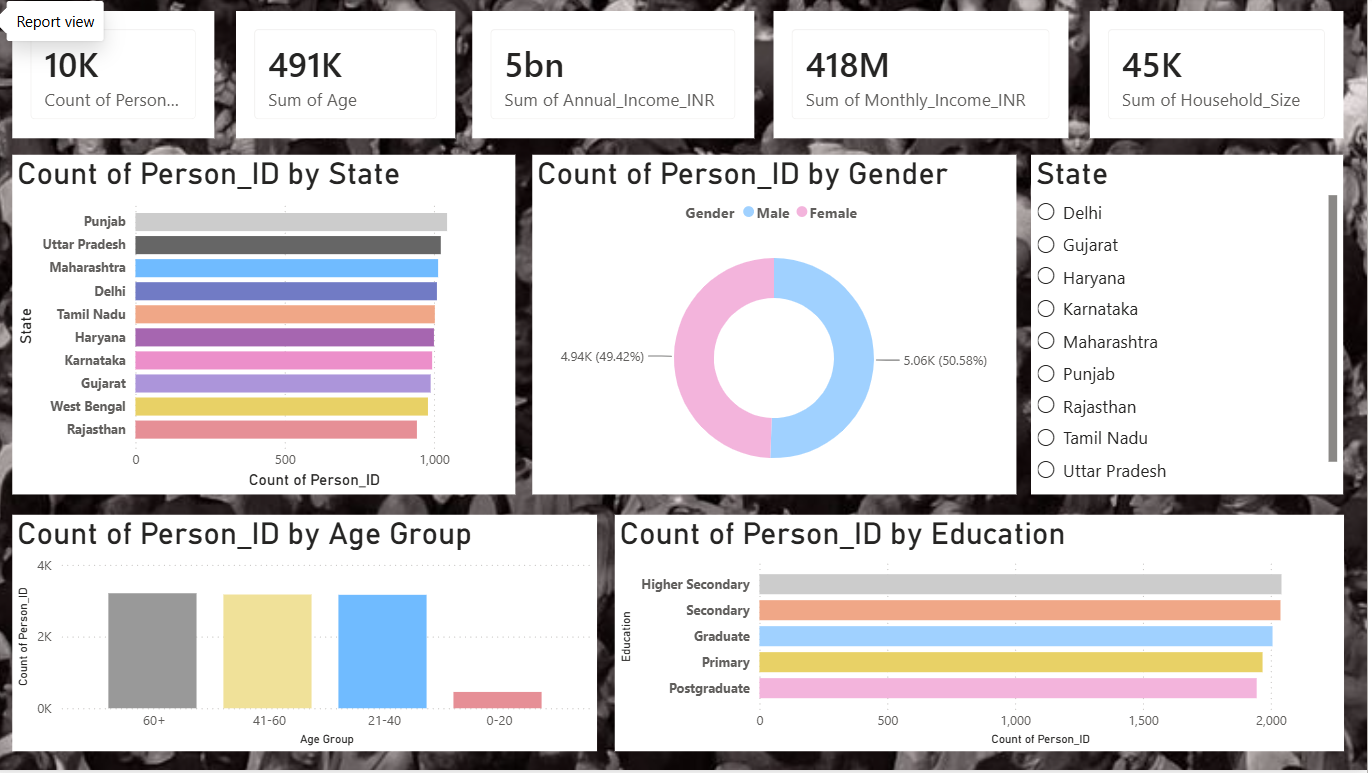

Layout of this report page (visuals, bound fields, positions):
{"tool":"powerbi","page":{"name":"Charts","canvas":[1280,720],"ordinal":1},"visuals":[{"type":"cardVisual","title":"Sum Of Age","fields":{"Data":["Sum(India_demographics.Age)"]},"box":[228,14,204,118],"z":0},{"type":"cardVisual","fields":{"Data":["Sum(India_demographics.Annual_Income_INR)"]},"box":[448,14,262,118],"z":1000},{"type":"cardVisual","fields":{"Data":["Sum(India_demographics.Household_Size)"]},"box":[1022,14,236,118],"z":2000},{"type":"cardVisual","fields":{"Data":["Sum(India_demographics.Monthly_Income_INR)"]},"box":[728,14,274,118],"z":3000},{"type":"cardVisual","title":"      Total People","fields":{"Data":["CountNonNull(India_demographics.Person_ID)"]},"box":[20,14,188,118],"z":4000},{"type":"clusteredBarChart","fields":{"Category":["India_demographics.State"],"Y":["CountNonNull(India_demographics.Person_ID)"]},"box":[20,148,468,316],"z":5000},{"type":"listSlicer","fields":{"Values":["India_demographics.State"]},"box":[968,148,290,316],"z":6000},{"type":"donutChart","fields":{"Category":["India_demographics.Gender"],"Y":["CountNonNull(India_demographics.Person_ID)"]},"box":[504,148,450,316],"z":7000},{"type":"columnChart","fields":{"Category":["India_demographics.Age Group"],"Y":["CountNonNull(India_demographics.Person_ID)"]},"box":[20,482,544,220],"z":8000},{"type":"barChart","fields":{"Category":["India_demographics.Education"],"Y":["CountNonNull(India_demographics.Person_ID)"]},"box":[580,482,678,220],"z":9000}]}

Visuals, with their boxes in screenshot pixels (x1, y1, x2, y2):
"Sum Of Age" cardVisual: l=236, t=8, r=459, b=138
cardVisual - Sum(India_demographics.Annual_Income_INR): l=477, t=8, r=764, b=138
cardVisual - Sum(India_demographics.Household_Size): l=1106, t=8, r=1364, b=138
cardVisual - Sum(India_demographics.Monthly_Income_INR): l=784, t=8, r=1084, b=138
"      Total People" cardVisual: l=8, t=8, r=214, b=138
clusteredBarChart - India_demographics.State x CountNonNull(India_demographics.Person_ID): l=8, t=155, r=521, b=501
listSlicer - India_demographics.State: l=1047, t=155, r=1364, b=501
donutChart - India_demographics.Gender x CountNonNull(India_demographics.Person_ID): l=538, t=155, r=1031, b=501
columnChart - India_demographics.Age Group x CountNonNull(India_demographics.Person_ID): l=8, t=521, r=604, b=762
barChart - India_demographics.Education x CountNonNull(India_demographics.Person_ID): l=621, t=521, r=1364, b=762
